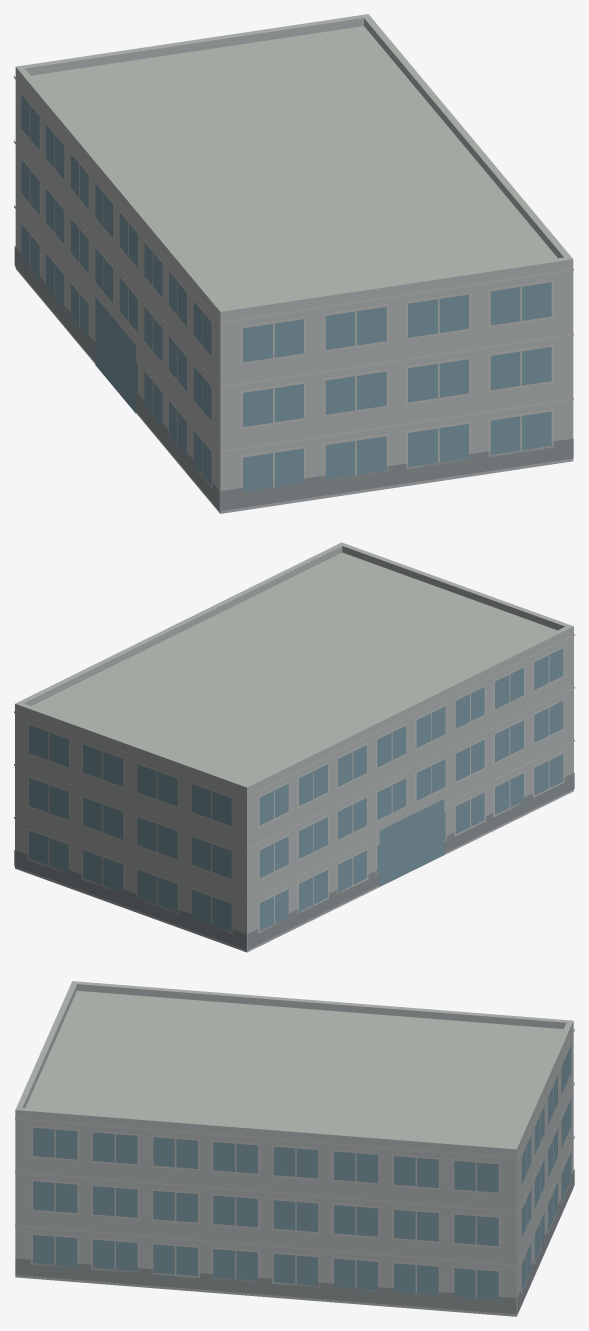
Rendered from public-3c218c54-3566-4dfc-b695-2c2b9f288068.glb.
3 renders of one model, top to bottom at view 1: azimuth 30°, elevation 25°; view 2: azimuth 150°, elevation 25°; view 3: azimuth 270°, elevation 25°, orthographic. The views are drawn at different scales.
Visible parts, largest first — view 1: public-3c218c54-3566-4dfc-b695-2c2b9f288068; view 2: public-3c218c54-3566-4dfc-b695-2c2b9f288068; view 3: public-3c218c54-3566-4dfc-b695-2c2b9f288068.
Part boxes in pixels (<box>): public-3c218c54-3566-4dfc-b695-2c2b9f288068: <box>14,14,573,513</box>; public-3c218c54-3566-4dfc-b695-2c2b9f288068: <box>14,542,574,952</box>; public-3c218c54-3566-4dfc-b695-2c2b9f288068: <box>15,981,574,1316</box>.
Bounding box in the file's own units: 19.87 × 9.15 × 27.79.
